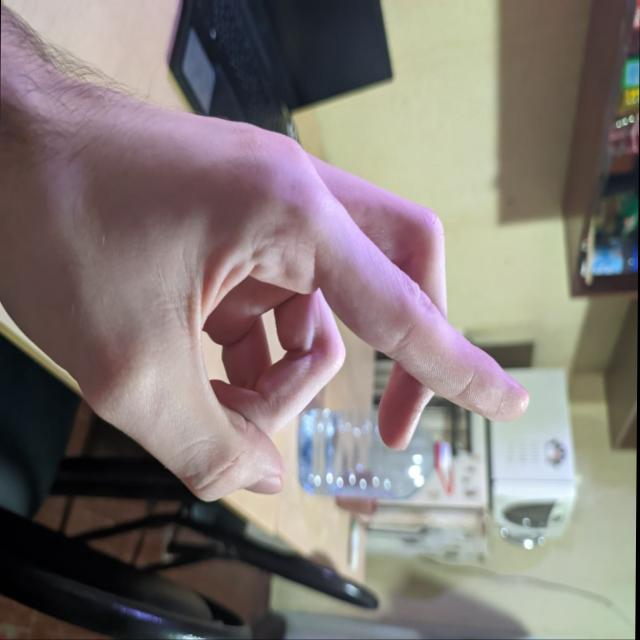b: (101, 113, 538, 519)
